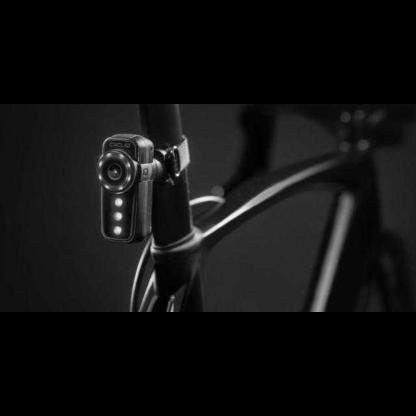Bicycle: (169, 104, 416, 310)
